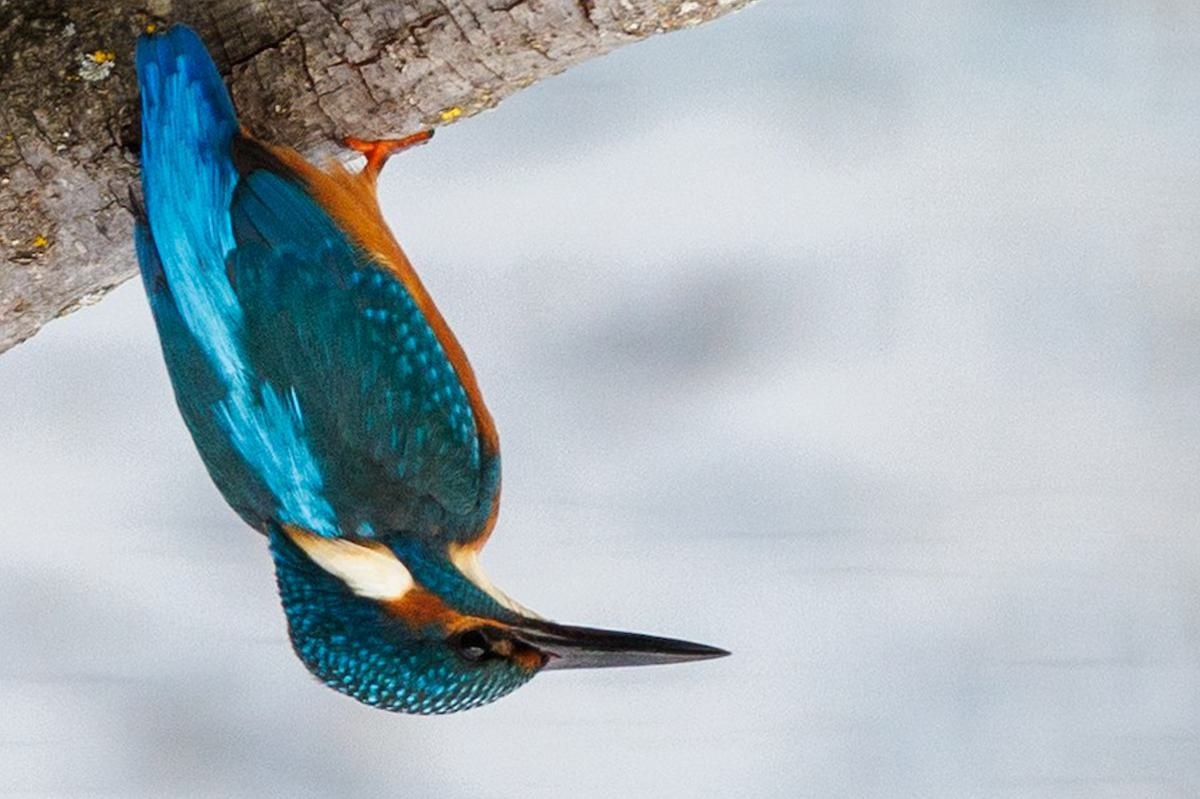kingfisher: (68, 42, 752, 731)
